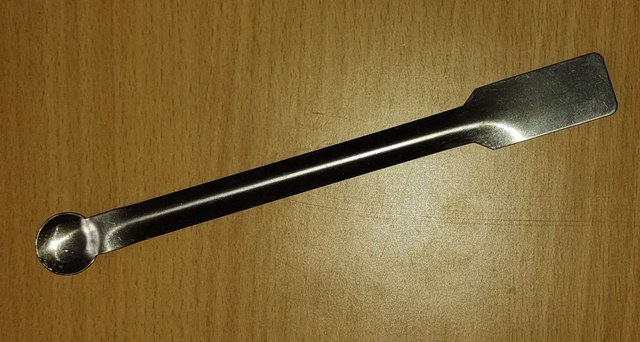Vim Scrubber: (32, 17, 608, 325)
